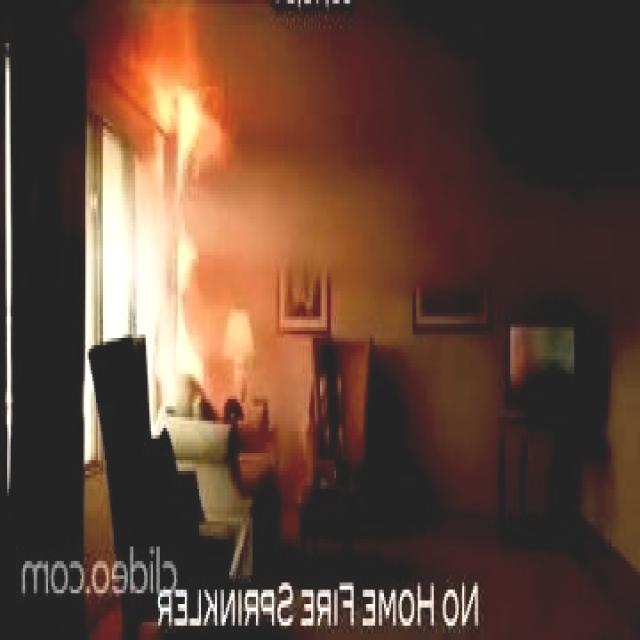fire: (120, 0, 234, 381)
